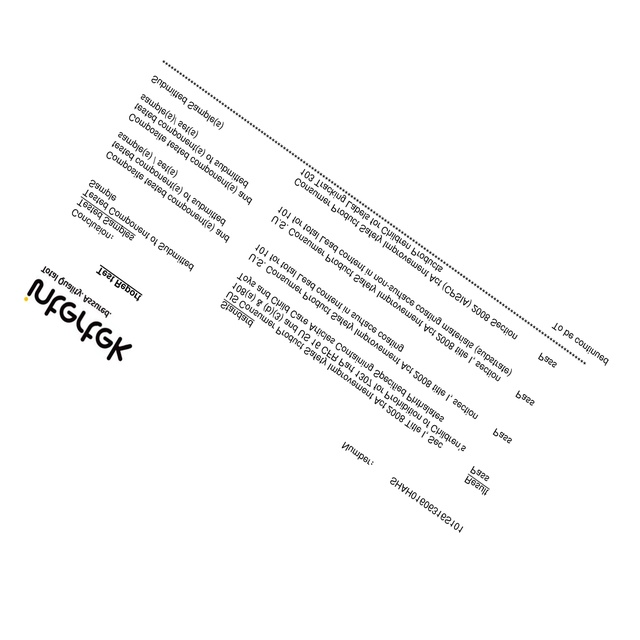intertek: (21, 278, 135, 366)
